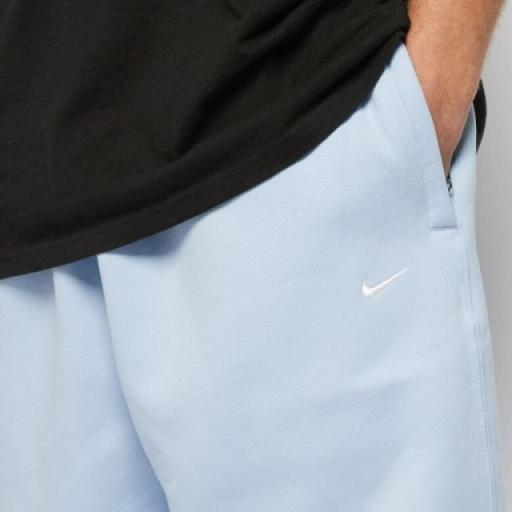Nike: (347, 263, 420, 301)
